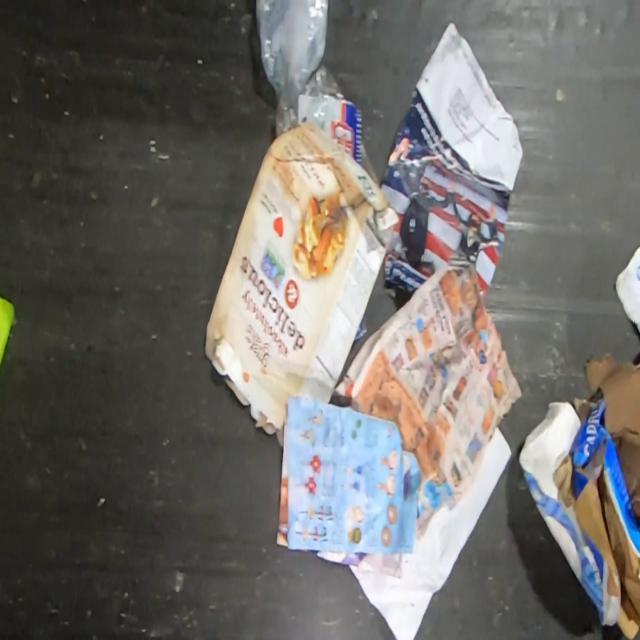cardboard: (204, 122, 400, 435), (552, 345, 640, 639)
rigid_plastic: (255, 0, 345, 136)
